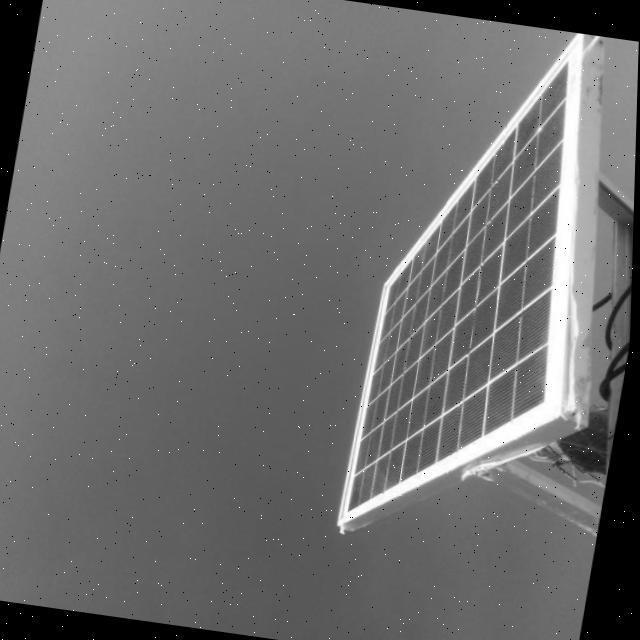Normal Solar Panel: (342, 12, 628, 557)
